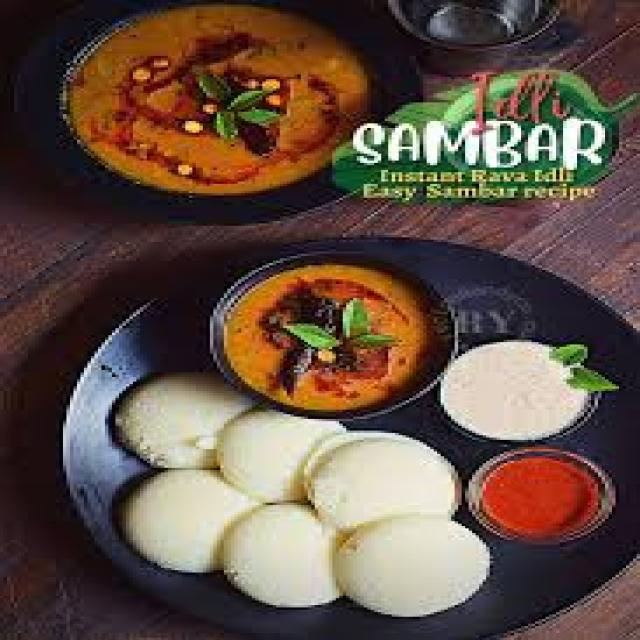IDLI: (338, 517, 489, 620), (317, 439, 455, 541), (113, 372, 256, 469), (123, 470, 255, 575), (216, 409, 352, 502), (223, 505, 343, 608)
